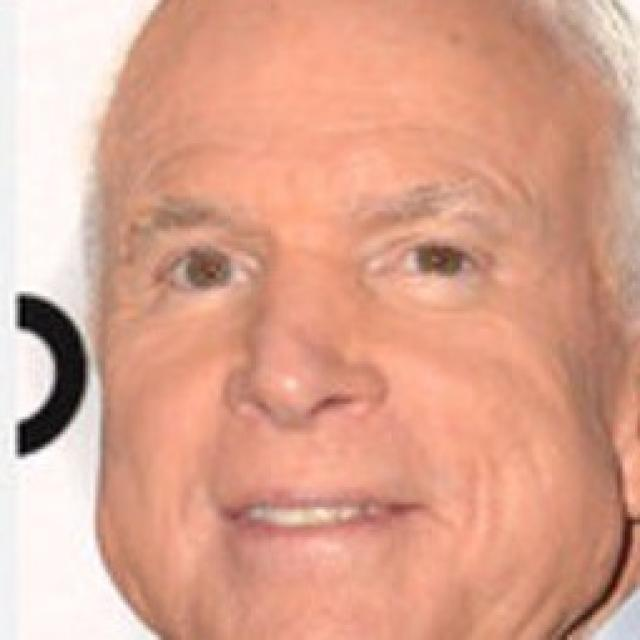Normal: (94, 3, 631, 637)
